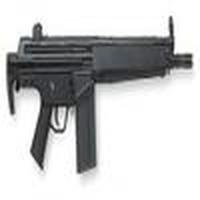gun: (6, 18, 193, 170)
